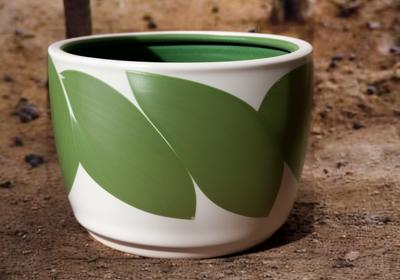pottedplant: (46, 29, 313, 258)
